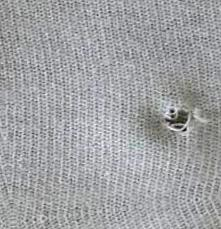hole: (159, 101, 197, 139)
